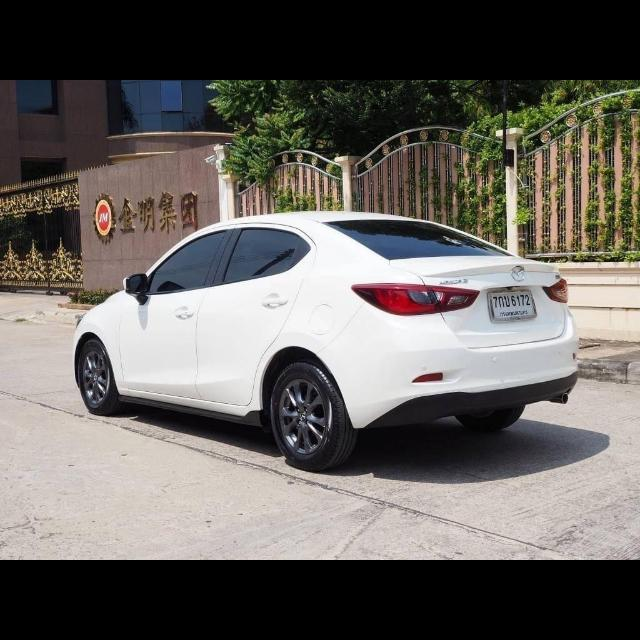cars: (70, 206, 582, 476)
